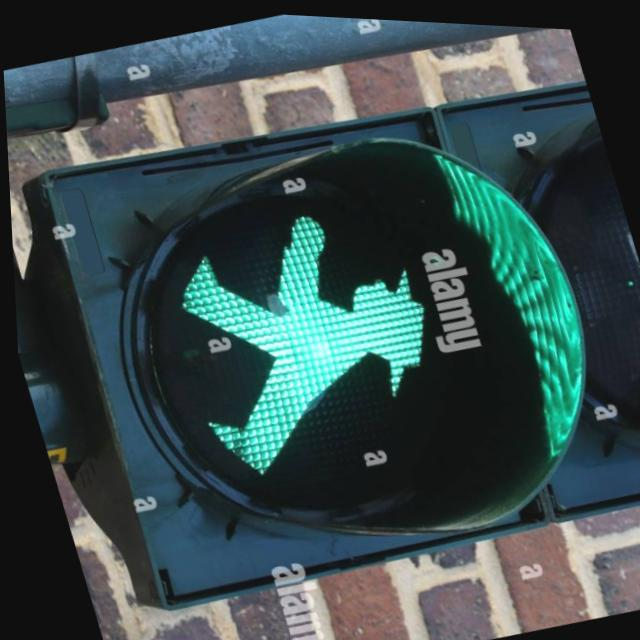green_light: (152, 179, 455, 480)
